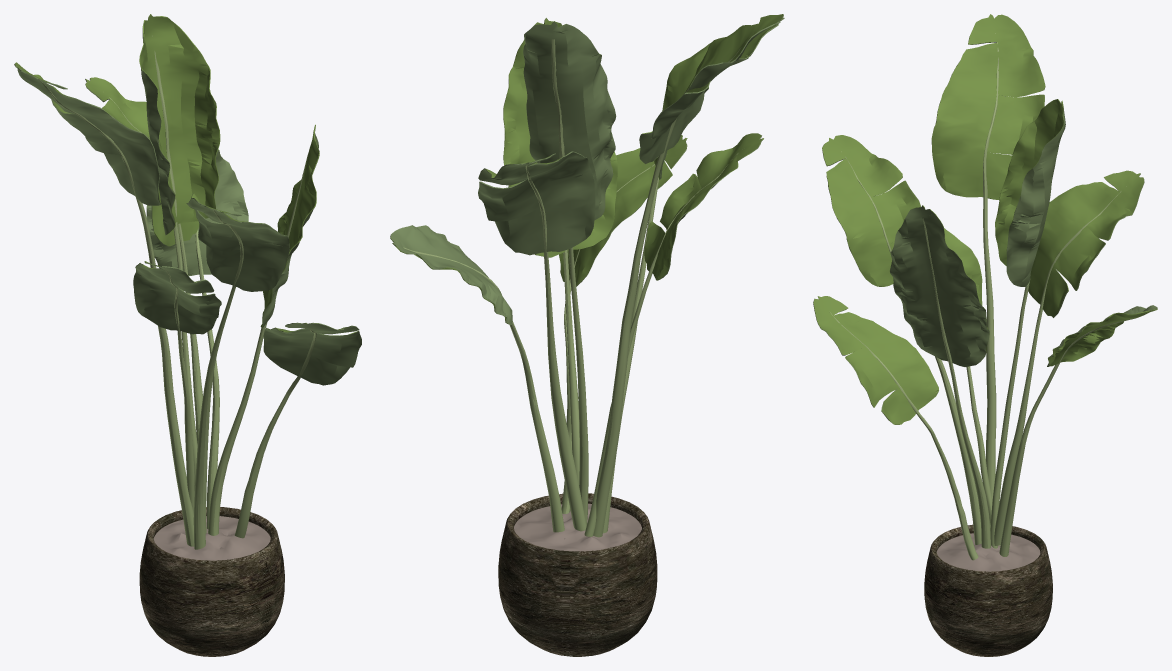
The model's file is Planta2.glb.
The picture shows the model from 3 angles, left to right: view 1: azimuth 30°, elevation 25°; view 2: azimuth 150°, elevation 25°; view 3: azimuth 270°, elevation 25°; orthographic projection. The views are drawn at different scales.
Parts seen in each view (by area): view 1: Planta2; view 2: Planta2; view 3: Planta2.
Part boxes in pixels (<box>): Planta2: <box>14,14,361,656</box>; Planta2: <box>390,14,784,656</box>; Planta2: <box>813,14,1157,656</box>.
Bounding box in the file's own units: 1.08 × 2.3 × 1.32.
5 materials, 1 textured.
